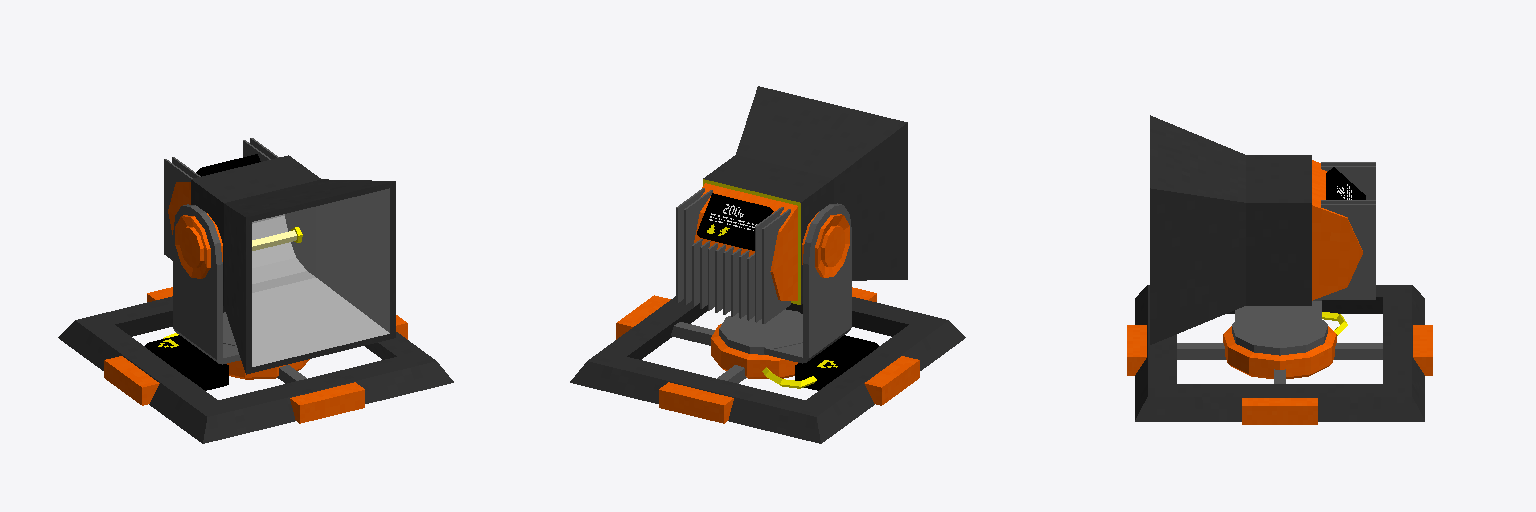
The picture shows the model from 3 angles: view 1: azimuth 30°, elevation 25°; view 2: azimuth 150°, elevation 25°; view 3: azimuth 270°, elevation 25°; orthographic projection.
Parts seen in each view (by area): view 1: Lamp_Head_Cylinder.004, Lamp_Base_Cube.008, Lamp_Swivel_Cube.014; view 2: Lamp_Head_Cylinder.004, Lamp_Base_Cube.008, Lamp_Swivel_Cube.014; view 3: Lamp_Head_Cylinder.004, Lamp_Base_Cube.008, Lamp_Swivel_Cube.014.
Part boxes in pixels (x1,y1,x2,y2): Lamp_Head_Cylinder.004: (164, 138, 395, 374); Lamp_Base_Cube.008: (58, 287, 453, 443); Lamp_Swivel_Cube.014: (173, 204, 309, 379); Lamp_Head_Cylinder.004: (676, 86, 907, 323); Lamp_Base_Cube.008: (570, 287, 965, 443); Lamp_Swivel_Cube.014: (711, 203, 851, 378); Lamp_Head_Cylinder.004: (1150, 115, 1375, 344); Lamp_Base_Cube.008: (1127, 285, 1432, 424); Lamp_Swivel_Cube.014: (1223, 298, 1336, 378).
Bounding box in the file's own units: 1.05 × 0.791 × 1.05.
4 materials, 1 textured.